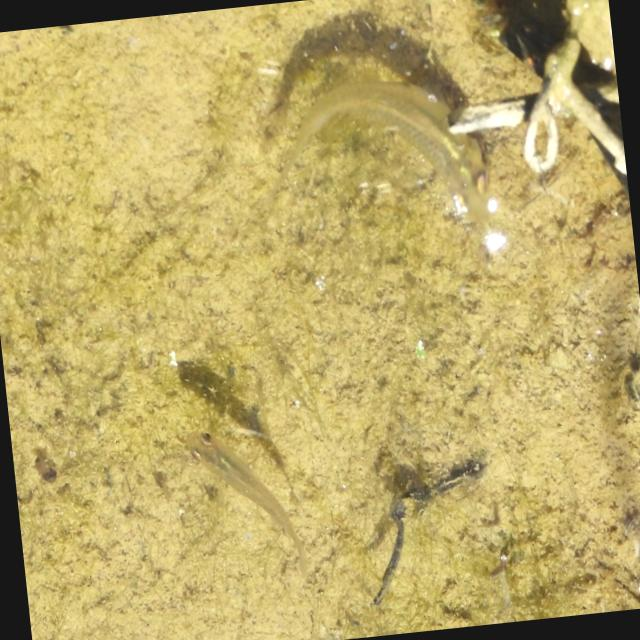Sivrisinek Baligi: (256, 36, 516, 286), (175, 415, 310, 579)
